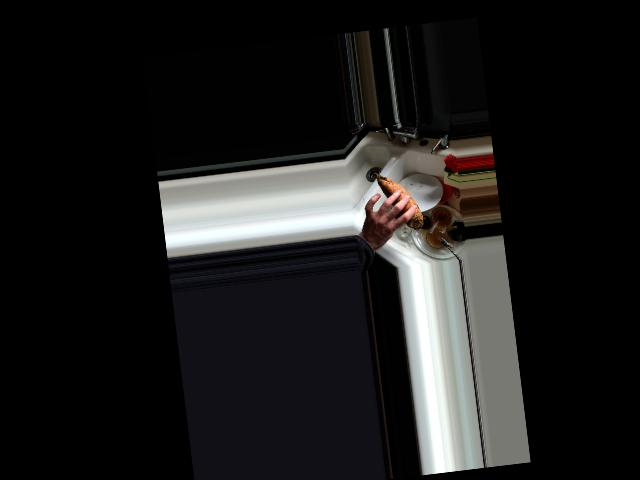sweet_potato: (373, 166, 424, 233)
